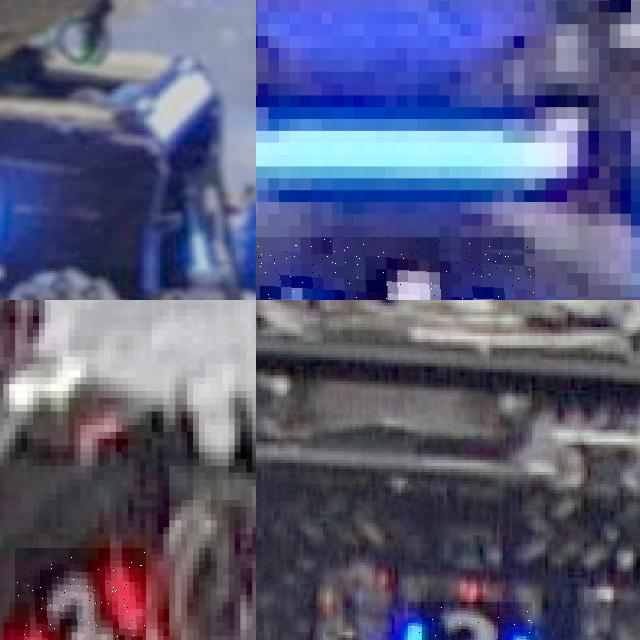B2: (408, 601, 532, 640)
B4: (256, 237, 535, 300)
R3: (15, 547, 145, 640)
